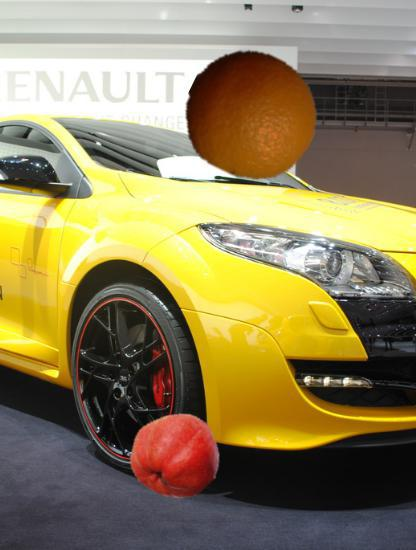Orange: (185, 48, 318, 181)
Pear: (130, 410, 222, 502)
